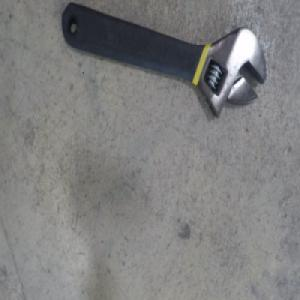AdjustableWrench: (59, 3, 266, 120)
